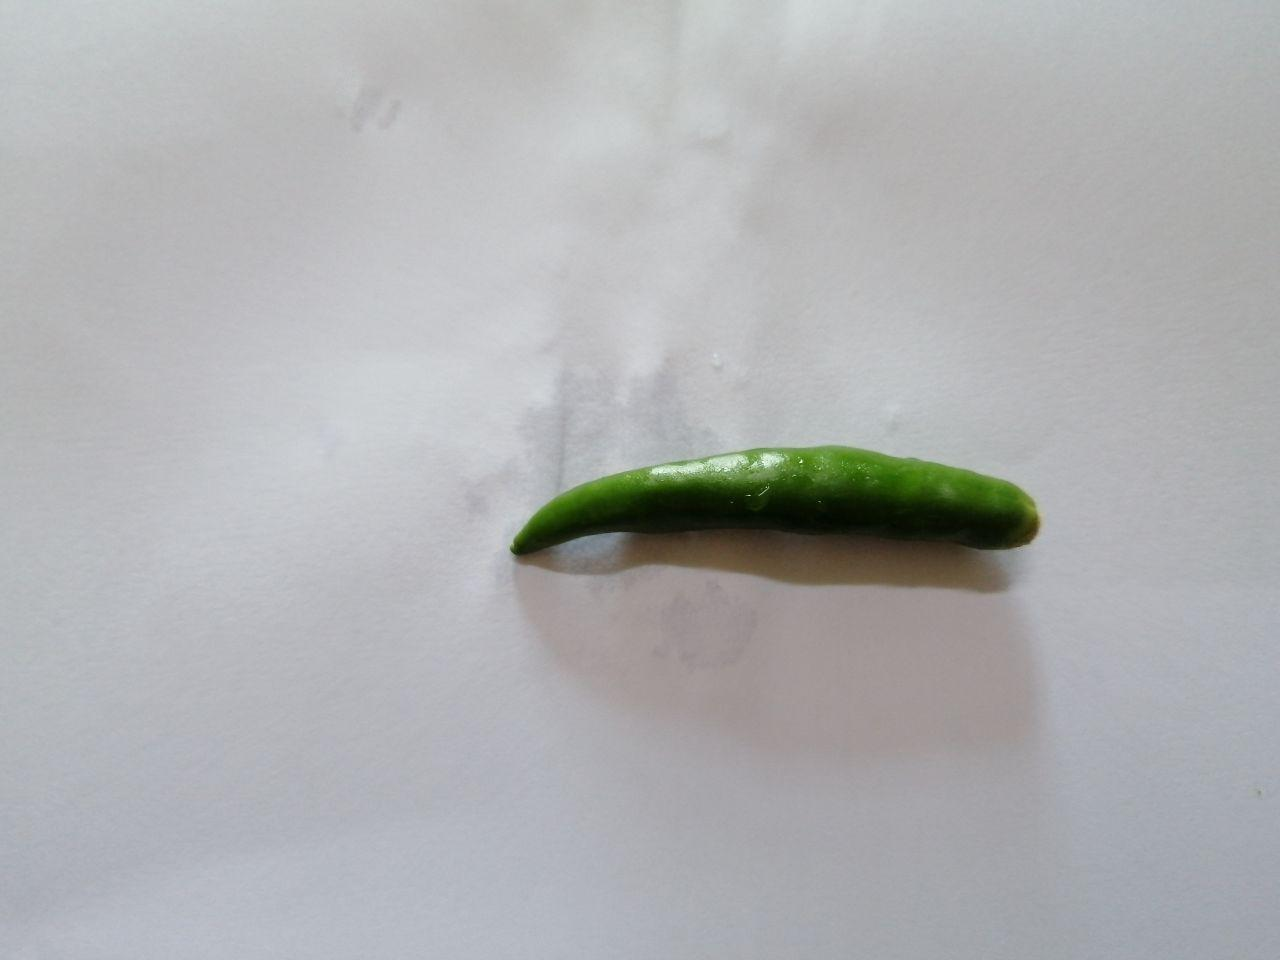lada hijau: (487, 434, 1052, 602)
